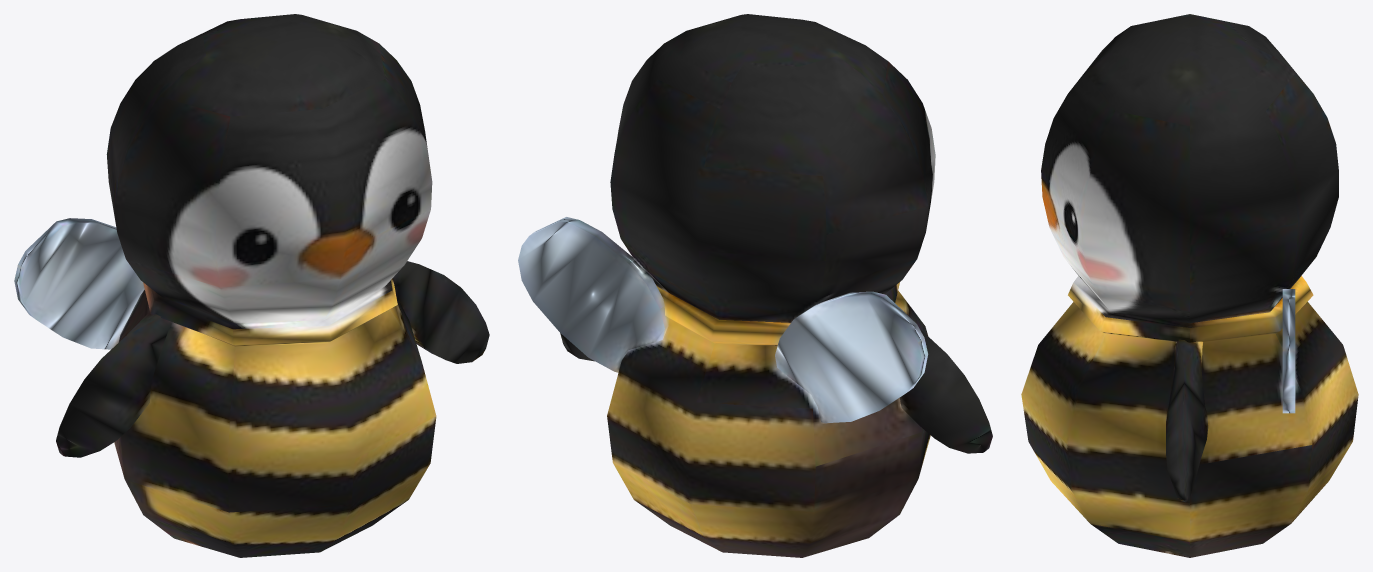
The model's file is penguin-04-23-bee-stripes-crochet-penguin.gltf.
The picture shows the model from 3 angles, left to right: view 1: azimuth 30°, elevation 25°; view 2: azimuth 150°, elevation 25°; view 3: azimuth 270°, elevation 25°; orthographic projection.
Parts seen in each view (by area): view 1: penguin-04-23-bee-stripes-crochet-penguin; view 2: penguin-04-23-bee-stripes-crochet-penguin; view 3: penguin-04-23-bee-stripes-crochet-penguin.
Part boxes in pixels (x1,y1,x2,y2): penguin-04-23-bee-stripes-crochet-penguin: (14, 14, 489, 557); penguin-04-23-bee-stripes-crochet-penguin: (518, 14, 992, 557); penguin-04-23-bee-stripes-crochet-penguin: (1021, 14, 1358, 557).
Size of the model in its own units: 0.2 by 0.2228 by 0.1368.
1 material, 1 textured.
